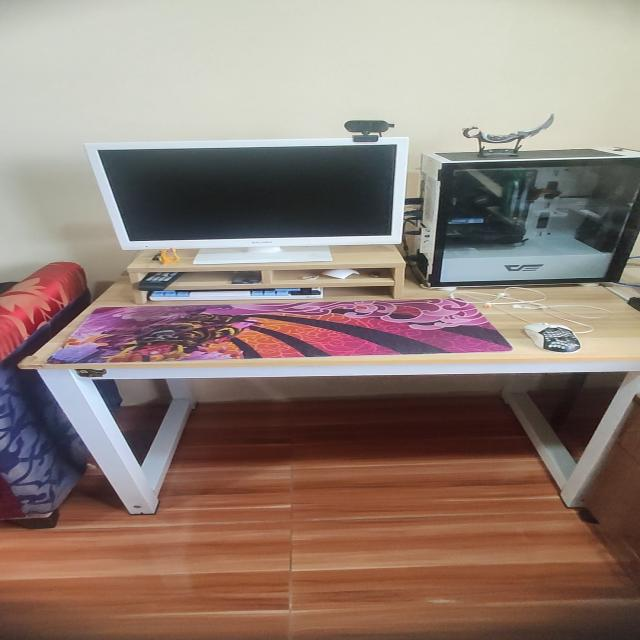table: (15, 270, 640, 515)
